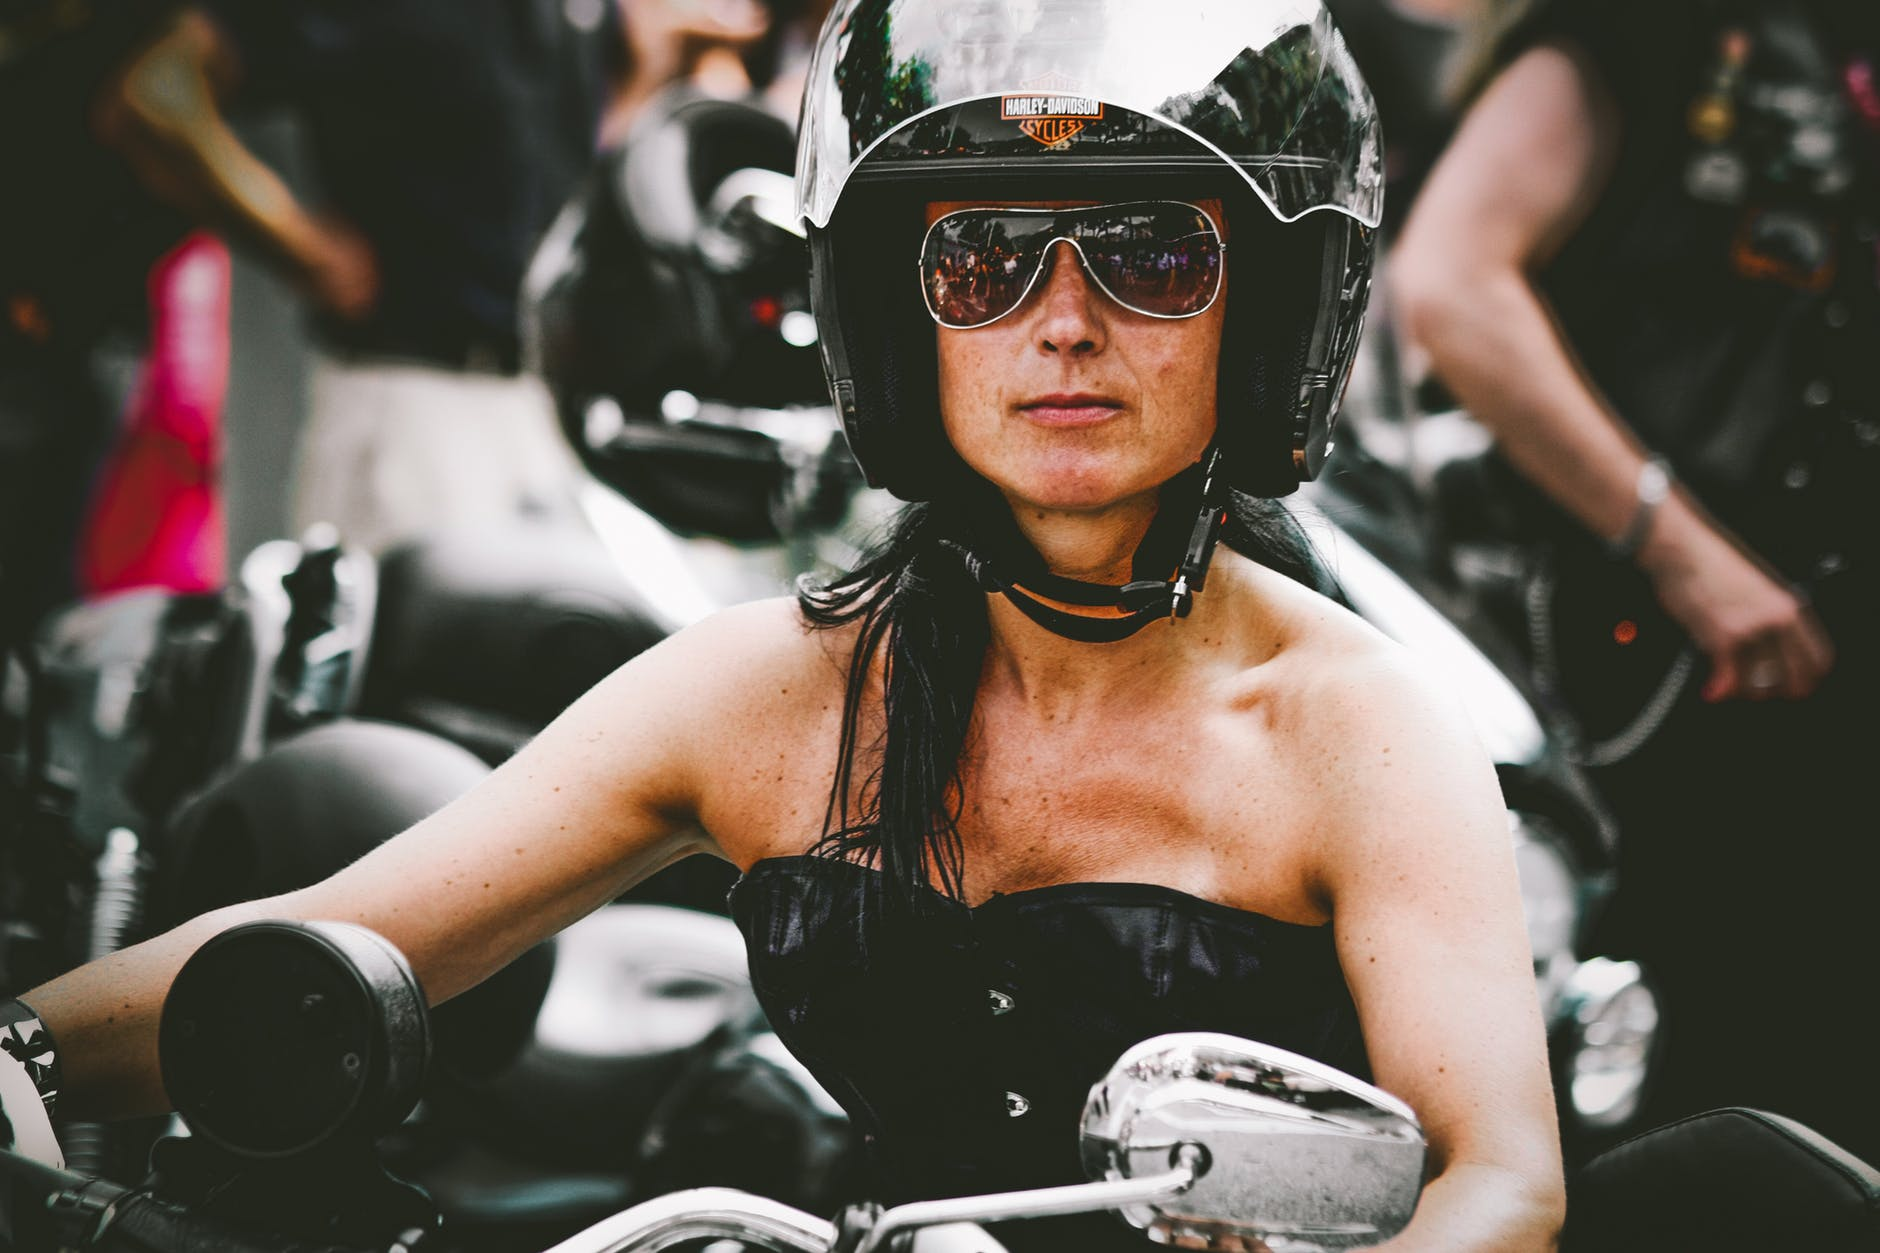helmet: (786, 7, 1377, 502)
